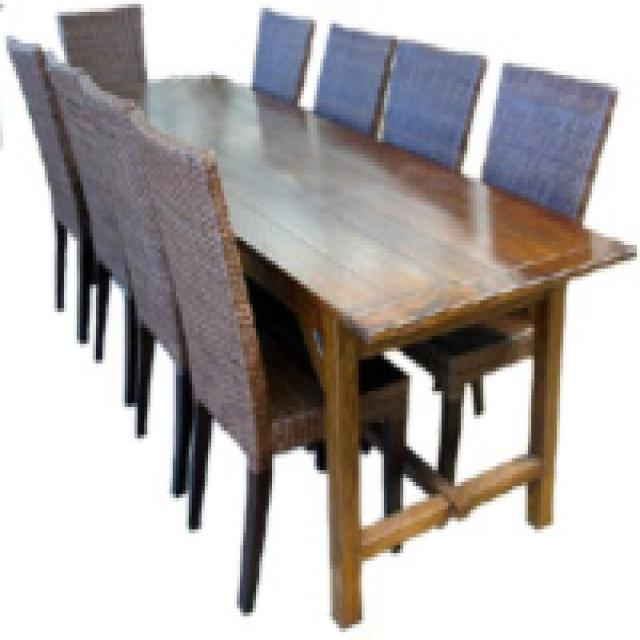table: (100, 75, 634, 628)
